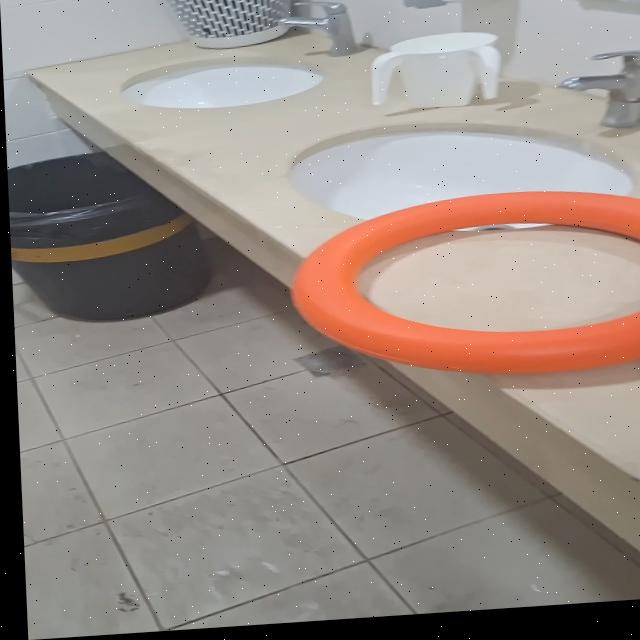note: (283, 191, 640, 395)
